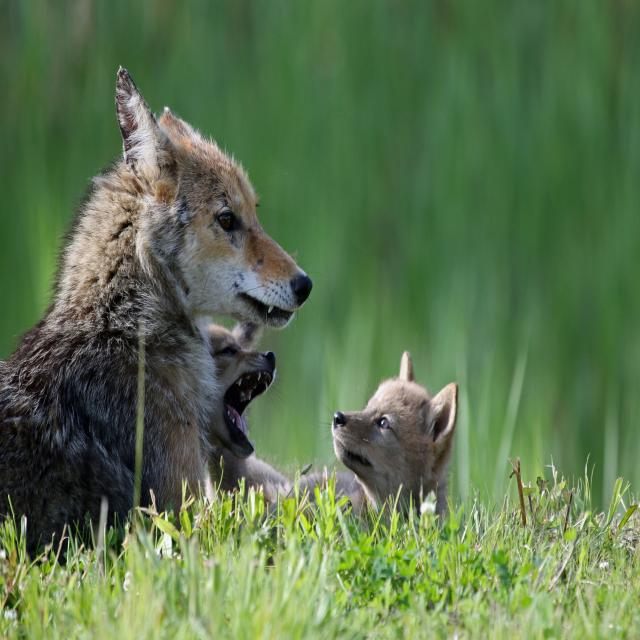Coyote: (0, 65, 315, 547)
